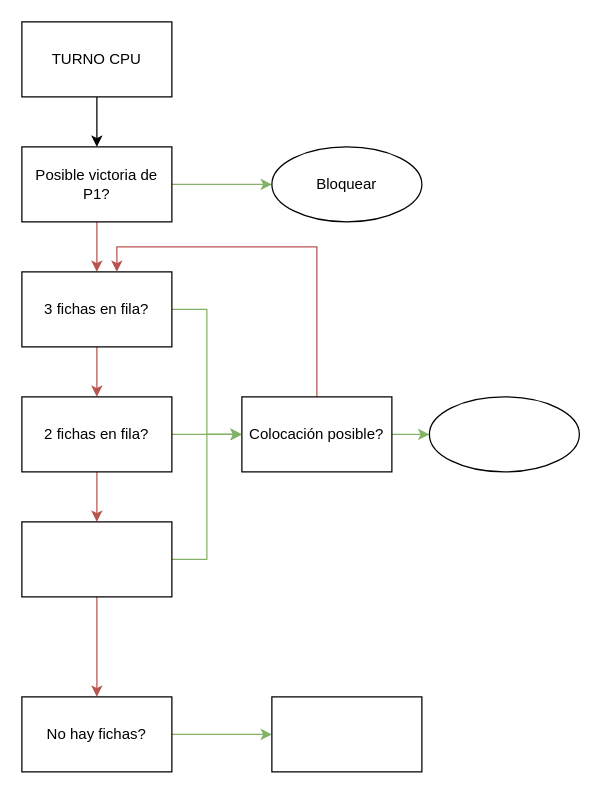
Some shapes in this 601 by 794 pixel diagram are drawn without their labels. Here are the shapes that lost their labels. From the top down, the centre of each, then its label:
At [503,434]: "Colocar ficha".
At [96,559]: "1 ficha asilada?".
At [346,734]: "Colocación aleatoria en cualquier columna disponible".
